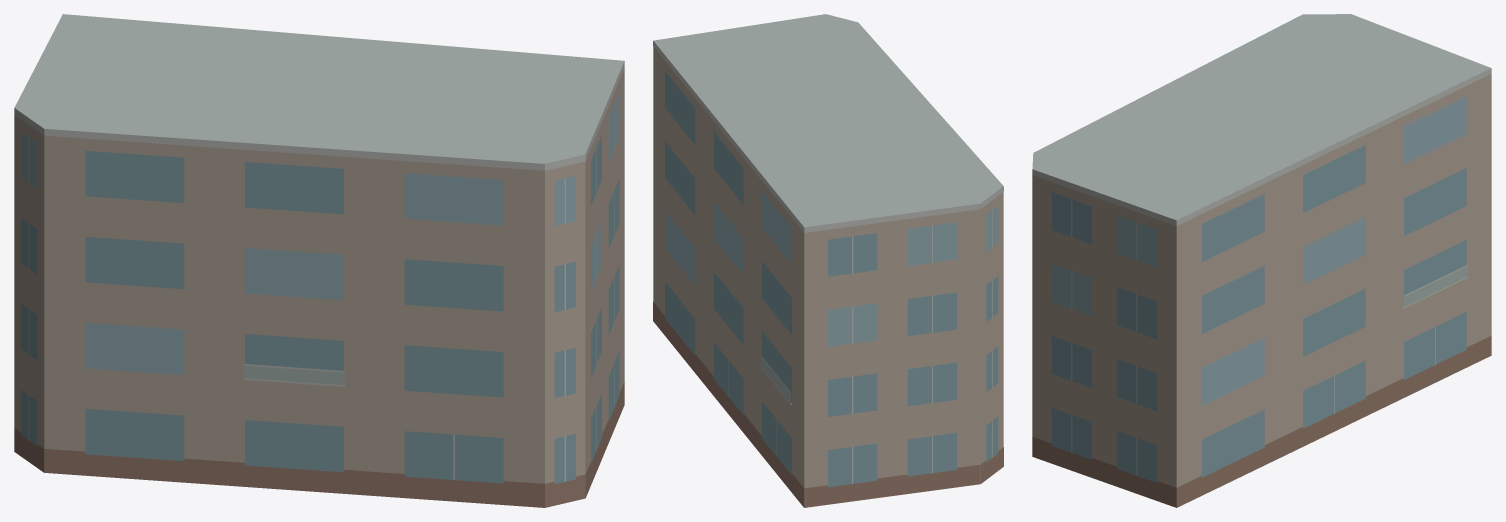
Rendered from survey-upis-32602615.glb.
3 views of the same model, side by side, from view 1: azimuth 30°, elevation 25°; view 2: azimuth 150°, elevation 25°; view 3: azimuth 270°, elevation 25° (orthographic). The views are drawn at different scales.
Parts seen in each view (by area): view 1: survey-upis-32602615.tmp; view 2: survey-upis-32602615.tmp; view 3: survey-upis-32602615.tmp.
Part boxes in pixels (x1,y1,x2,y2): survey-upis-32602615.tmp: [14, 14, 624, 507]; survey-upis-32602615.tmp: [653, 14, 1003, 507]; survey-upis-32602615.tmp: [1032, 14, 1491, 507].
Bounding box in the file's own units: 18.79 × 12.2 × 17.66.
